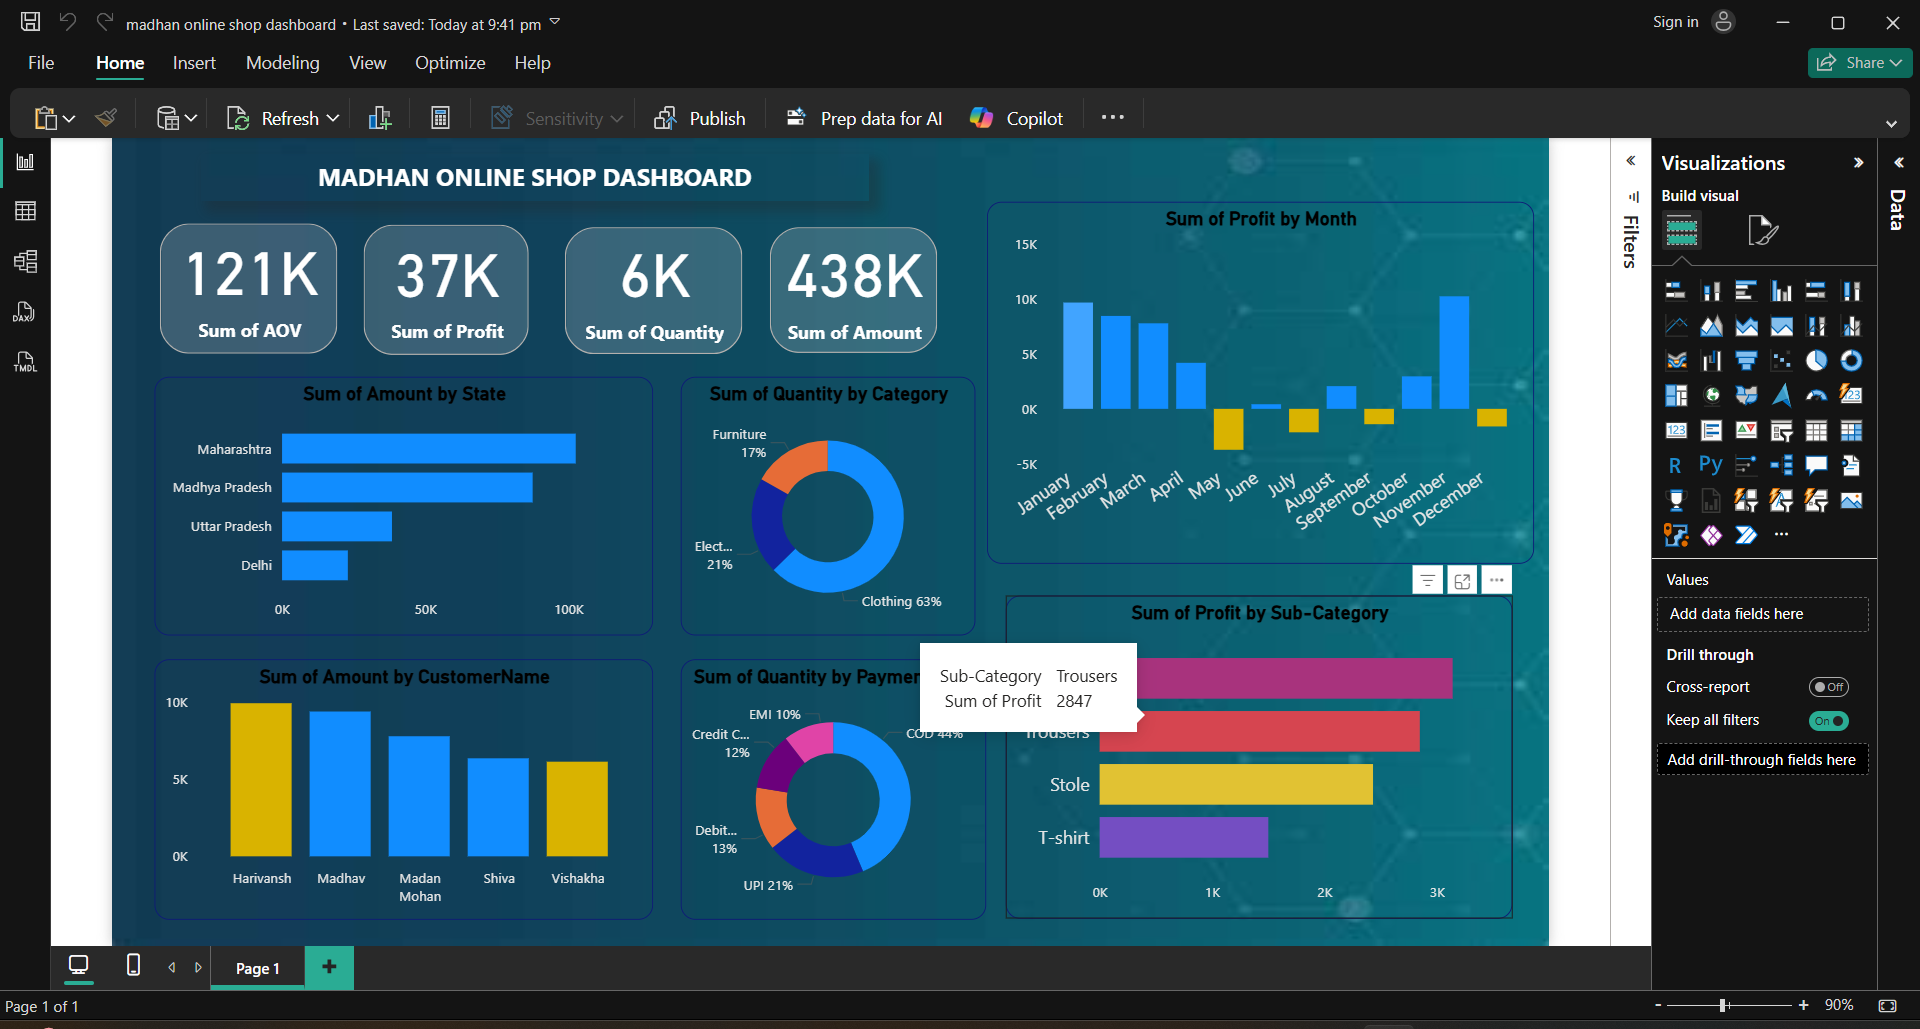

The dashboard page shown, as its layout file describes it:
{"tool":"powerbi","page":{"name":"Page 1","canvas":[1280,720],"ordinal":0},"visuals":[{"type":"columnChart","fields":{"Y":["Sum(Details.Profit)"],"Category":["Orders.Order Date.Variation.Date Hierarchy.Month"]},"box":[779.1,56.4,487.1,322.7],"z":0},{"type":"barChart","fields":{"Y":["Sum(Details.Profit)"],"Category":["Details.Sub-Category"]},"box":[796.3,407.4,451.5,288.3],"z":1000},{"type":"donutChart","fields":{"Category":["Details.Category"],"Y":["Sum(Details.Quantity)"]},"box":[506.8,212.3,262.6,230.7],"z":2000},{"type":"donutChart","fields":{"Y":["Sum(Details.Quantity)"],"Category":["Details.PaymentMode"]},"box":[506.8,463.8,272.4,231.9],"z":3000},{"type":"cardVisual","fields":{"Data":["Sum(Details.Amount)"]},"box":[581.6,74.8,159.5,122.7],"z":4000},{"type":"cardVisual","fields":{"Data":["Sum(Details.Profit)"]},"box":[219.6,72.4,157.1,126.4],"z":5000},{"type":"cardVisual","fields":{"Data":["Sum(Details.Quantity)"]},"box":[398.8,74.8,168.1,123.9],"z":6000},{"type":"cardVisual","fields":{"Data":["Sum(Details.AOV)"]},"box":[38,71.2,168.1,126.4],"z":7000},{"type":"barChart","fields":{"Category":["Orders.State"],"Y":["Sum(Details.Amount)"]},"box":[38,212.3,444.2,230.7],"z":8000},{"type":"columnChart","fields":{"Category":["Orders.CustomerName"],"Y":["Sum(Details.Amount)"]},"box":[38,463.8,444.2,231.9],"z":8001},{"type":"textbox","box":[78.5,14.7,595.1,41.7],"z":8002}]}

Visuals, with their boxes on the page's 1280x720 design canvas (x1, y1, x2, y2). These are canvas units, not pixel positions in the 1920x1029 screenshot, which may show the page scaled, cropped or inside an application window:
columnChart - Sum(Details.Profit) x Orders.Order Date.Variation.Date Hierarchy.Month: [left=779, top=56, right=1266, bottom=379]
barChart - Sum(Details.Profit) x Details.Sub-Category: [left=796, top=407, right=1248, bottom=696]
donutChart - Details.Category x Sum(Details.Quantity): [left=507, top=212, right=769, bottom=443]
donutChart - Sum(Details.Quantity) x Details.PaymentMode: [left=507, top=464, right=779, bottom=696]
cardVisual - Sum(Details.Amount): [left=582, top=75, right=741, bottom=198]
cardVisual - Sum(Details.Profit): [left=220, top=72, right=377, bottom=199]
cardVisual - Sum(Details.Quantity): [left=399, top=75, right=567, bottom=199]
cardVisual - Sum(Details.AOV): [left=38, top=71, right=206, bottom=198]
barChart - Orders.State x Sum(Details.Amount): [left=38, top=212, right=482, bottom=443]
columnChart - Orders.CustomerName x Sum(Details.Amount): [left=38, top=464, right=482, bottom=696]
textbox: [left=78, top=15, right=674, bottom=56]
